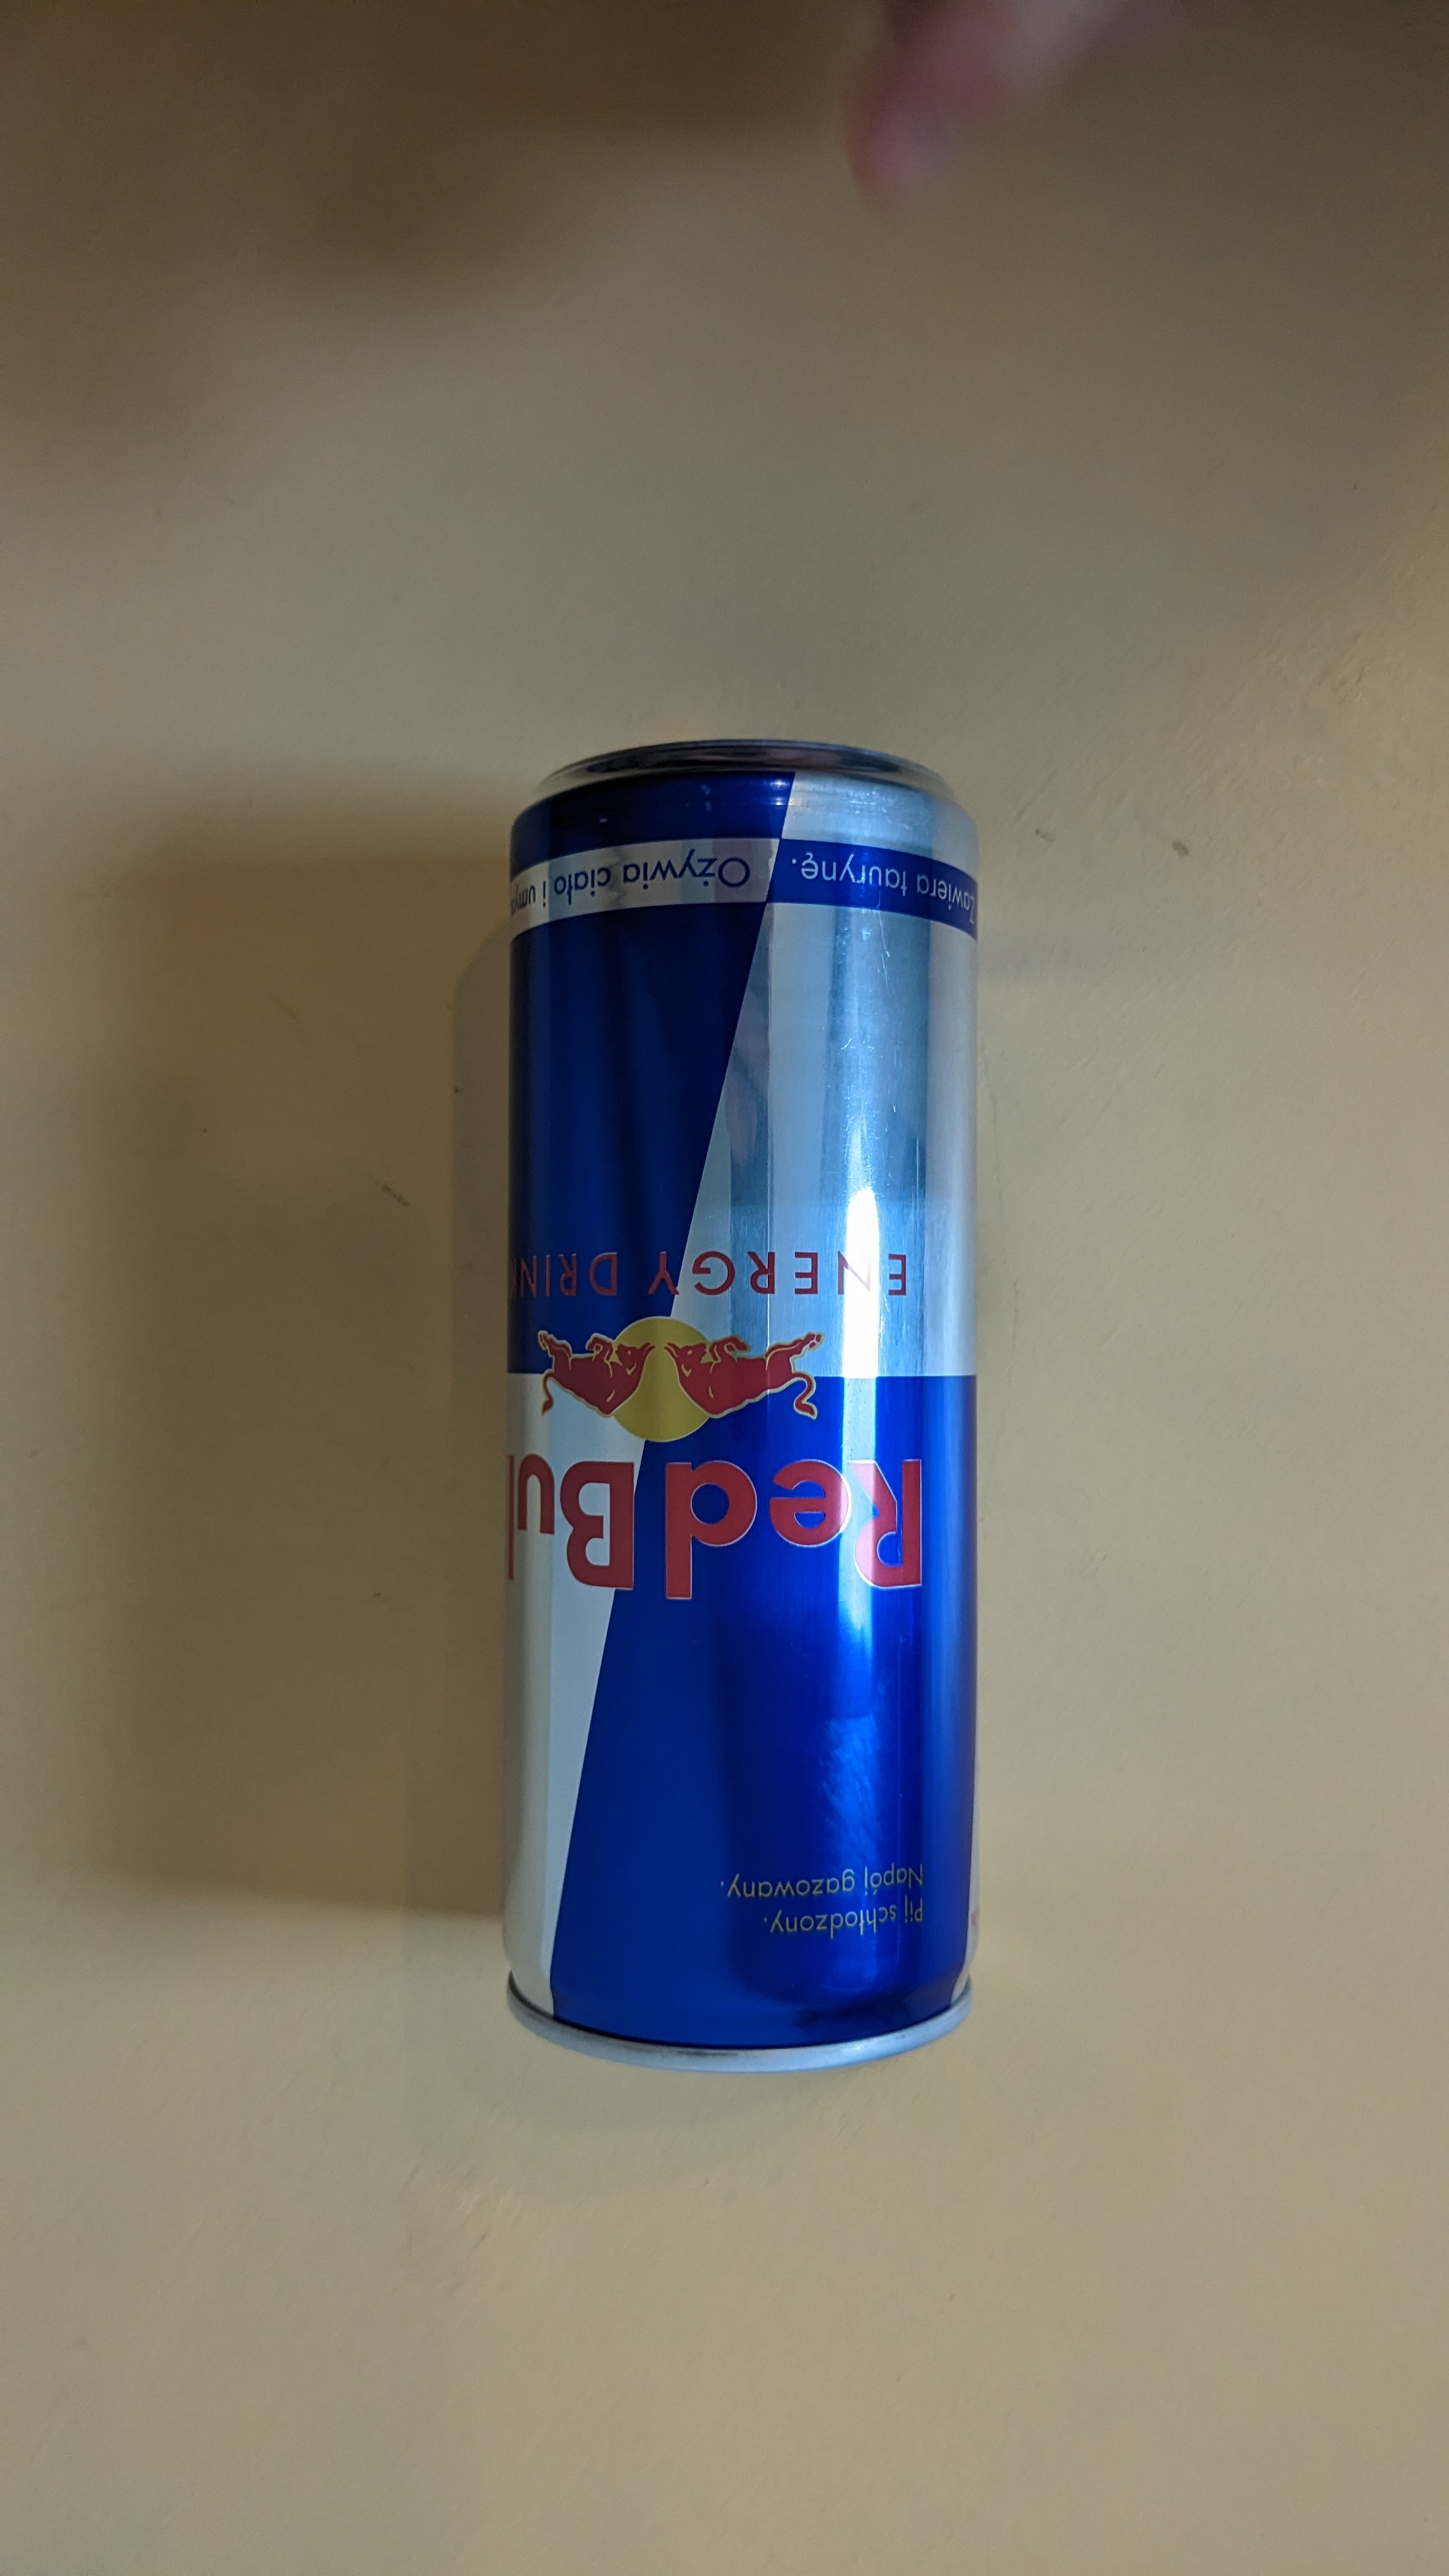red-bull: (449, 704, 1054, 2118)
